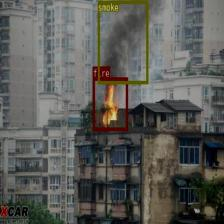fire: (92, 77, 127, 130)
smoke: (97, 0, 148, 83)
